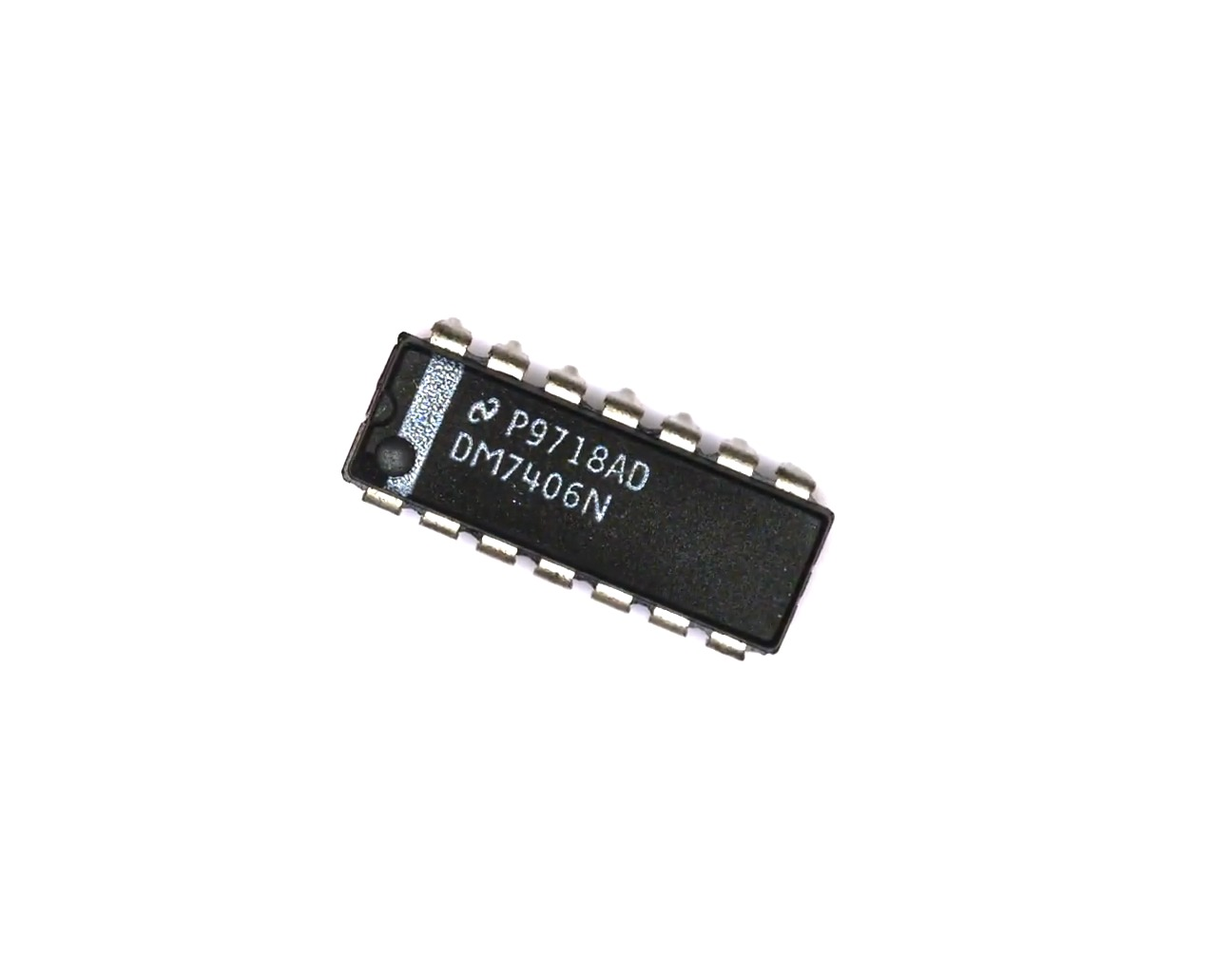IC: (324, 296, 860, 679)
notch: (363, 387, 405, 429)
